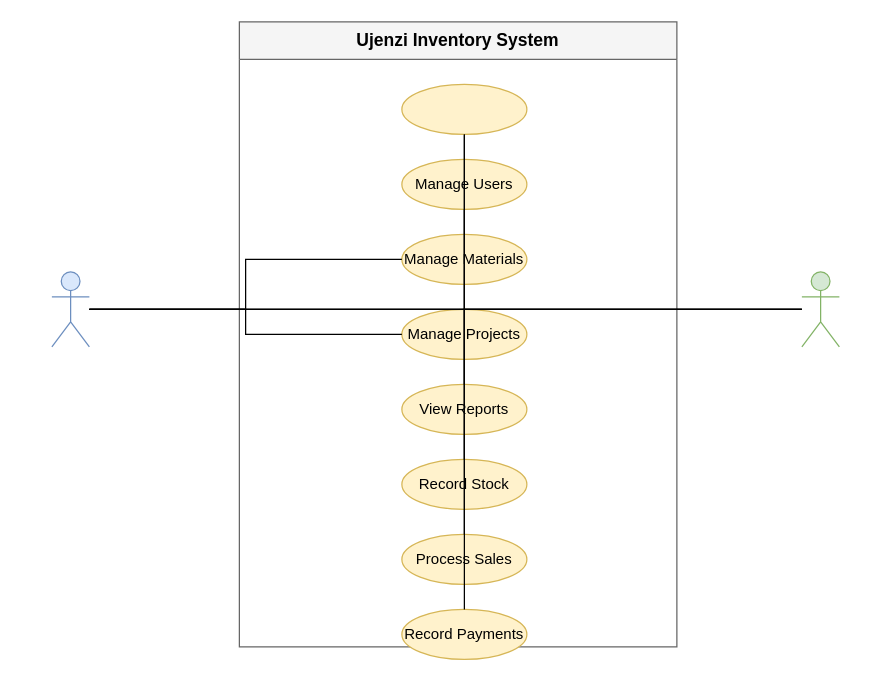
Image size: 880x681. Some labels were removed from this diagram. The centre of each missing label's shape, as x and y in pixels:
"Admin / Owner" belongs at point 70,309.
"Login" belongs at point 464,108.
"Store Clerk" belongs at point 820,309.
